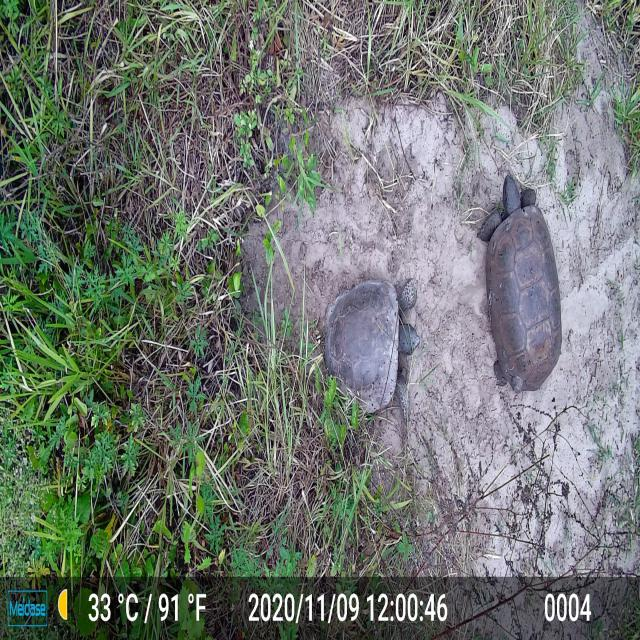tortoise: (476, 171, 564, 397), (321, 275, 421, 426)
